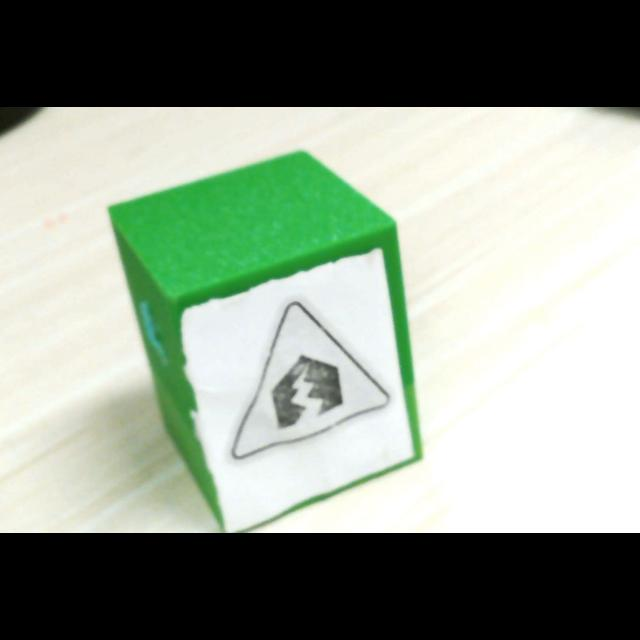Earthquake: (229, 301, 391, 463), (230, 302, 391, 461)
